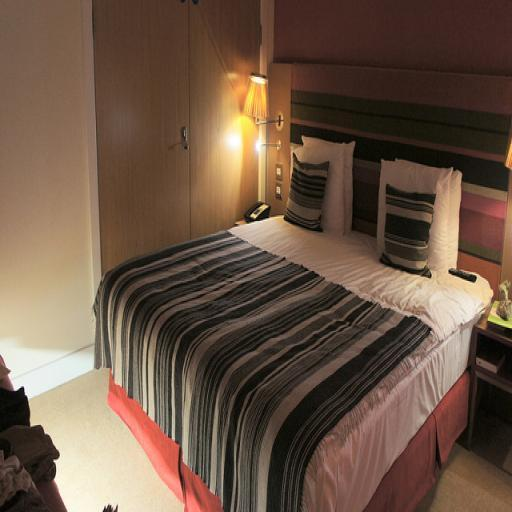bed: (85, 51, 512, 510)
